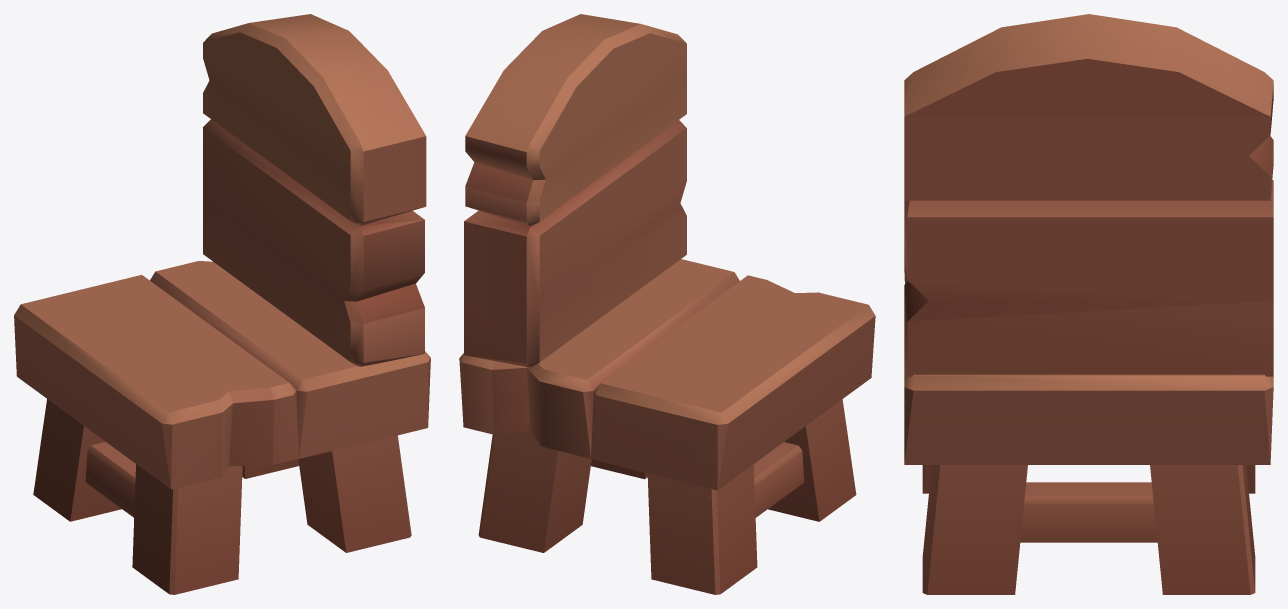
The model's file is chair.gltf.
3 views of the same model, side by side, from view 1: azimuth 30°, elevation 25°; view 2: azimuth 150°, elevation 25°; view 3: azimuth 270°, elevation 25° (orthographic). The views are drawn at different scales.
Parts seen in each view (by area): view 1: chair; view 2: chair; view 3: chair.
Boxes of the visible parts, left/top/right/bottom form: chair: left=14, top=14, right=430, bottom=594; chair: left=459, top=14, right=875, bottom=594; chair: left=904, top=14, right=1273, bottom=594.
Bounding box in the file's own units: 0.75 × 1.23 × 0.75.
Materials: 1 (1 with a texture image).
